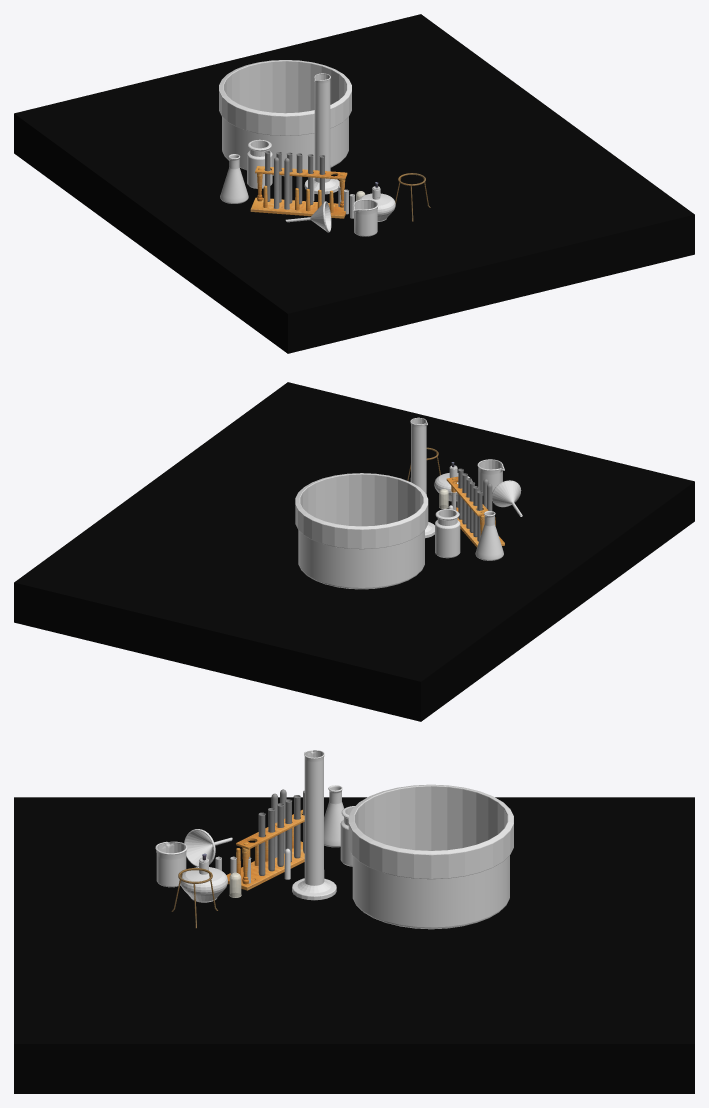
File: models_labmaterial.FBX
3 renders of one model, top to bottom at view 1: azimuth 30°, elevation 25°; view 2: azimuth 150°, elevation 25°; view 3: azimuth 270°, elevation 25°, orthographic. The views are drawn at different scales.
Visible parts, largest first — view 1: Obj3d66-695882-19-681, Obj3d66-695882-12-25, Obj3d66-695882-11-260, Obj3d66-695882-2-300, Obj3d66-695882-10-899, Obj3d66-695882-9-820, Obj3d66-695882-1-540, Obj3d66-695882-18-753; view 2: Obj3d66-695882-19-681, Obj3d66-695882-12-25, Obj3d66-695882-11-260, Obj3d66-695882-2-300, Obj3d66-695882-1-540, Obj3d66-695882-10-899, Obj3d66-695882-3-772, Obj3d66-695882-9-820; view 3: Obj3d66-695882-19-681, Obj3d66-695882-12-25, Obj3d66-695882-11-260, Obj3d66-695882-2-300, Obj3d66-695882-18-753, Obj3d66-695882-9-820, Obj3d66-695882-10-899, Obj3d66-695882-3-772, Obj3d66-695882-1-540.
Boxes of the visible parts, x1=… form: Obj3d66-695882-19-681: x1=14, y1=14, x2=694, y2=353; Obj3d66-695882-12-25: x1=219, y1=60, x2=351, y2=175; Obj3d66-695882-11-260: x1=250, y1=151, x2=347, y2=218; Obj3d66-695882-2-300: x1=304, y1=73, x2=339, y2=194; Obj3d66-695882-10-899: x1=220, y1=154, x2=248, y2=203; Obj3d66-695882-9-820: x1=353, y1=199, x2=378, y2=236; Obj3d66-695882-1-540: x1=247, y1=139, x2=272, y2=188; Obj3d66-695882-18-753: x1=358, y1=187, x2=395, y2=221; Obj3d66-695882-19-681: x1=14, y1=382, x2=694, y2=721; Obj3d66-695882-12-25: x1=295, y1=473, x2=428, y2=589; Obj3d66-695882-11-260: x1=446, y1=468, x2=504, y2=547; Obj3d66-695882-2-300: x1=410, y1=417, x2=434, y2=538; Obj3d66-695882-1-540: x1=435, y1=509, x2=460, y2=558; Obj3d66-695882-10-899: x1=475, y1=511, x2=503, y2=560; Obj3d66-695882-3-772: x1=492, y1=480, x2=522, y2=516; Obj3d66-695882-9-820: x1=477, y1=459, x2=504, y2=495; Obj3d66-695882-19-681: x1=14, y1=797, x2=694, y2=1093; Obj3d66-695882-12-25: x1=348, y1=784, x2=513, y2=929; Obj3d66-695882-11-260: x1=226, y1=789, x2=304, y2=890; Obj3d66-695882-2-300: x1=292, y1=750, x2=336, y2=900; Obj3d66-695882-18-753: x1=180, y1=859, x2=227, y2=902; Obj3d66-695882-9-820: x1=155, y1=841, x2=187, y2=887; Obj3d66-695882-10-899: x1=324, y1=785, x2=344, y2=847; Obj3d66-695882-3-772: x1=184, y1=829, x2=232, y2=866; Obj3d66-695882-1-540: x1=340, y1=806, x2=354, y2=866.
Size of the model in its own units: 122145 by 142343 by 43237.
8 materials, 3 textured.
